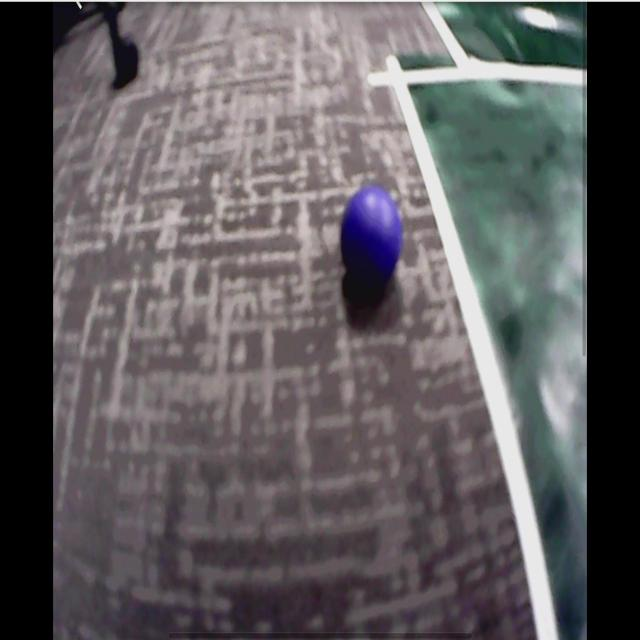ball: (344, 188, 401, 282)
